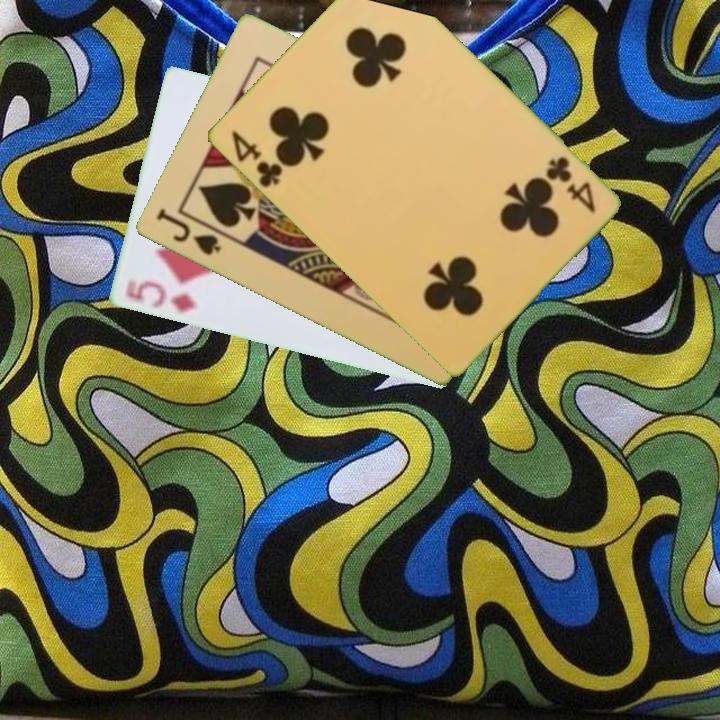4c: (227, 126, 285, 191), (541, 152, 598, 216)
5d: (121, 276, 198, 316)
Js: (152, 205, 223, 259)
